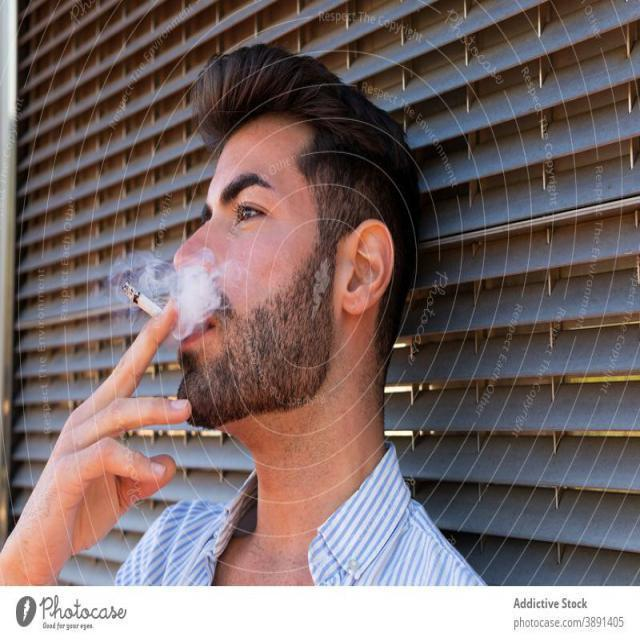smoking: (92, 239, 239, 366)
